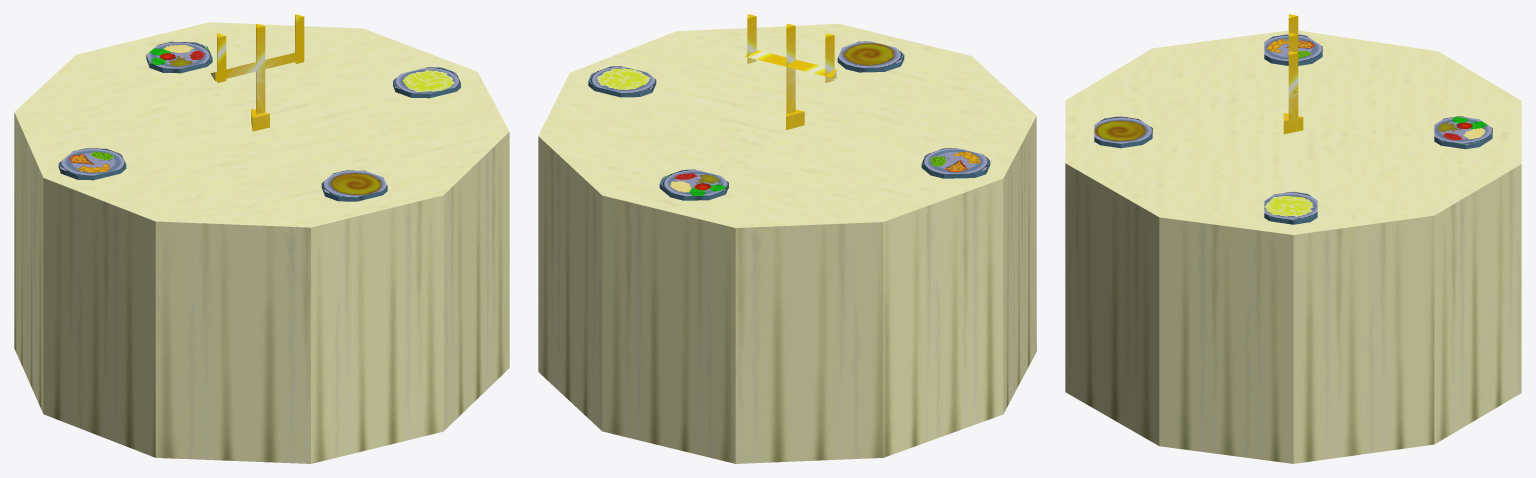
Rendered from Table.glb.
The picture shows the model from 3 angles, left to right: view 1: azimuth 30°, elevation 25°; view 2: azimuth 150°, elevation 25°; view 3: azimuth 270°, elevation 25°; orthographic projection. The views are drawn at different scales.
Visible parts, largest first — view 1: Table; view 2: Table; view 3: Table.
Part boxes in pixels (x1,y1,x2,y2): Table: (14,14,509,463); Table: (538,14,1036,463); Table: (1065,14,1521,463).
Size of the model in its own units: 100 by 74 by 94.
Materials: 7 (7 with a texture image).
